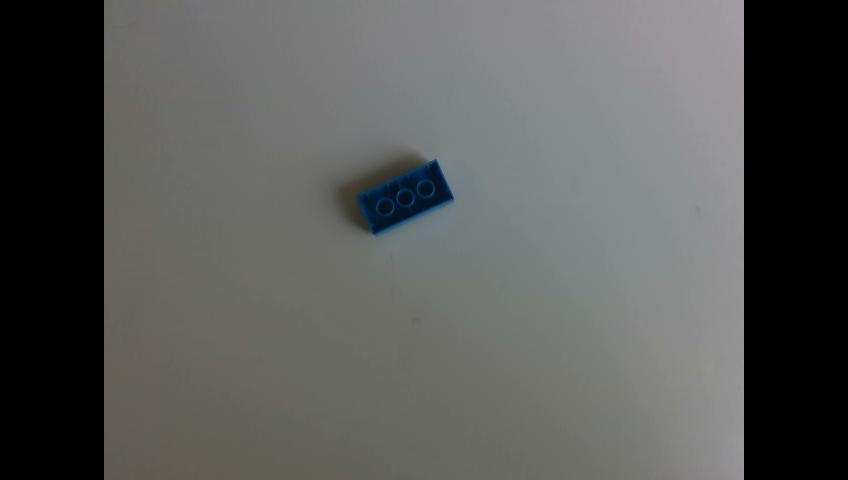4x2_blue: (357, 158, 457, 236)
